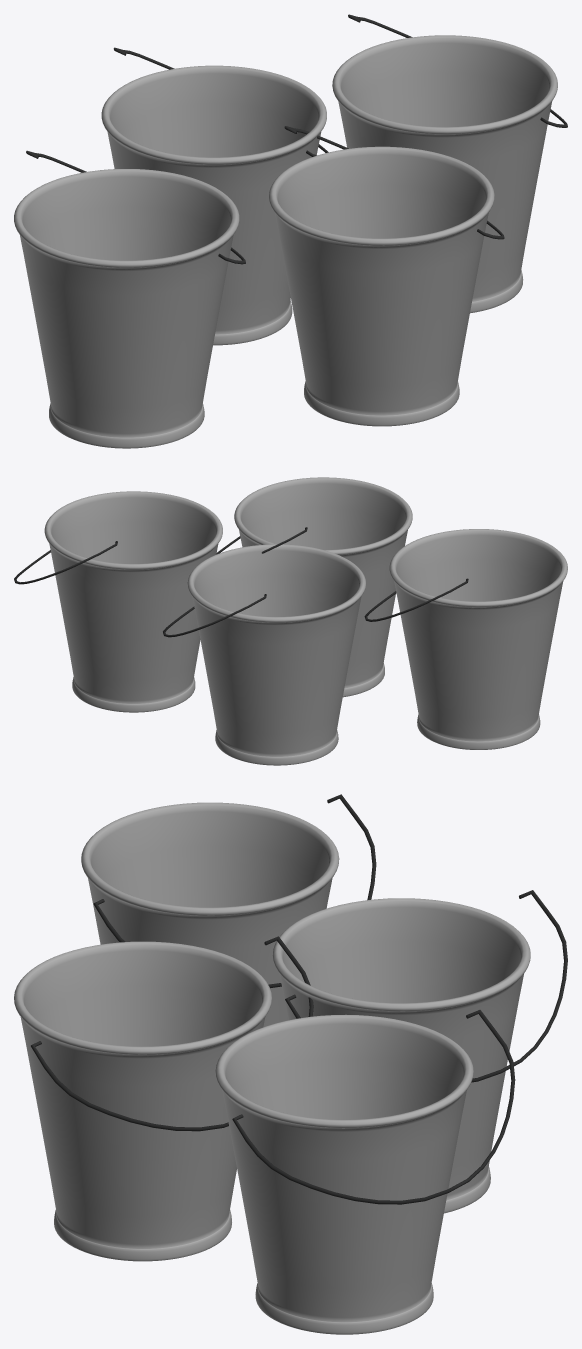
Rendered from ss-bucket.glb.
The picture shows the model from 3 angles, top to bottom: view 1: azimuth 30°, elevation 25°; view 2: azimuth 150°, elevation 25°; view 3: azimuth 270°, elevation 25°; orthographic projection. The views are drawn at different scales.
Visible parts, largest first — view 1: Bucket.004, Bucket.001, Bucket.002, Bucket.003; view 2: Bucket.001, Bucket.002, Bucket.003, Bucket.004, Cylinder.003, Cylinder.002, Cylinder.001; view 3: Bucket.003, Bucket.004, Bucket.002, Bucket.001, Cylinder.003, Cylinder.004, Cylinder.002, Cylinder.001.
Part boxes in pixels (x1=…): Bucket.004: x1=269, y1=146, x2=494, y2=426; Bucket.001: x1=14, y1=169, x2=239, y2=448; Bucket.002: x1=101, y1=65, x2=326, y2=345; Bucket.003: x1=332, y1=35, x2=557, y2=313; Bucket.001: x1=389, y1=529, x2=567, y2=749; Bucket.002: x1=187, y1=544, x2=366, y2=765; Bucket.003: x1=44, y1=491, x2=222, y2=712; Bucket.004: x1=234, y1=477, x2=412, y2=697; Cylinder.003: x1=14, y1=541, x2=117, y2=584; Cylinder.002: x1=163, y1=594, x2=266, y2=637; Cylinder.001: x1=364, y1=578, x2=468, y2=621; Bucket.003: x1=215, y1=1014, x2=473, y2=1334; Bucket.004: x1=14, y1=941, x2=271, y2=1261; Bucket.002: x1=272, y1=898, x2=530, y2=1213; Bucket.001: x1=81, y1=802, x2=339, y2=1027; Cylinder.003: x1=232, y1=1010, x2=515, y2=1204; Cylinder.004: x1=31, y1=936, x2=313, y2=1131; Cylinder.002: x1=285, y1=890, x2=567, y2=1082; Cylinder.001: x1=93, y1=794, x2=376, y2=988.
Bounding box in the file's own units: 5.28 × 2.1 × 3.76.
Materials: 2 (1 with a texture image).
